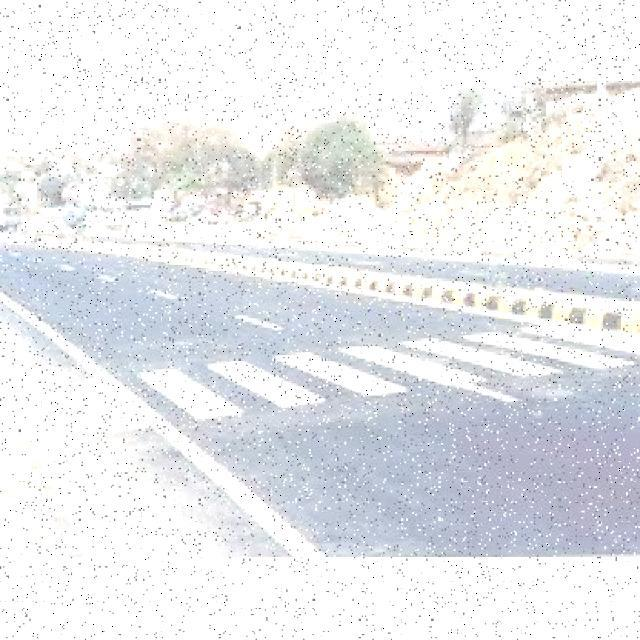crosswalk: (88, 316, 637, 442)
